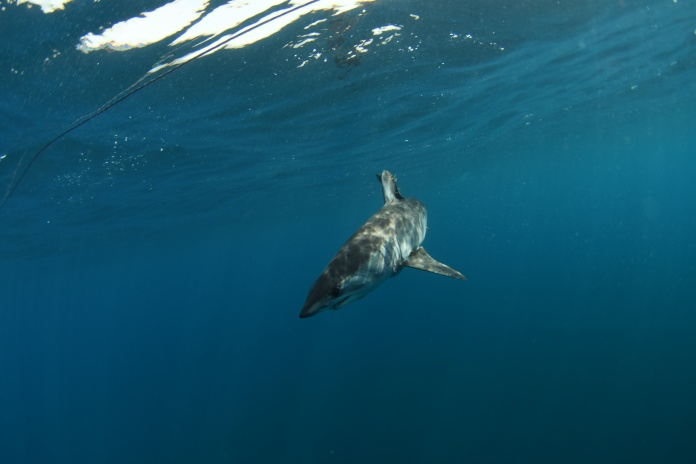Mako: (288, 157, 476, 337)
